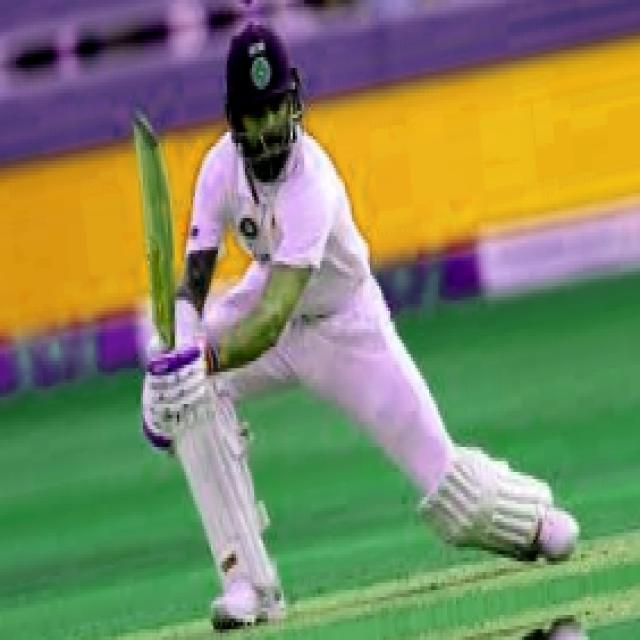bat: (130, 108, 181, 355)
toe: (130, 110, 159, 149)
